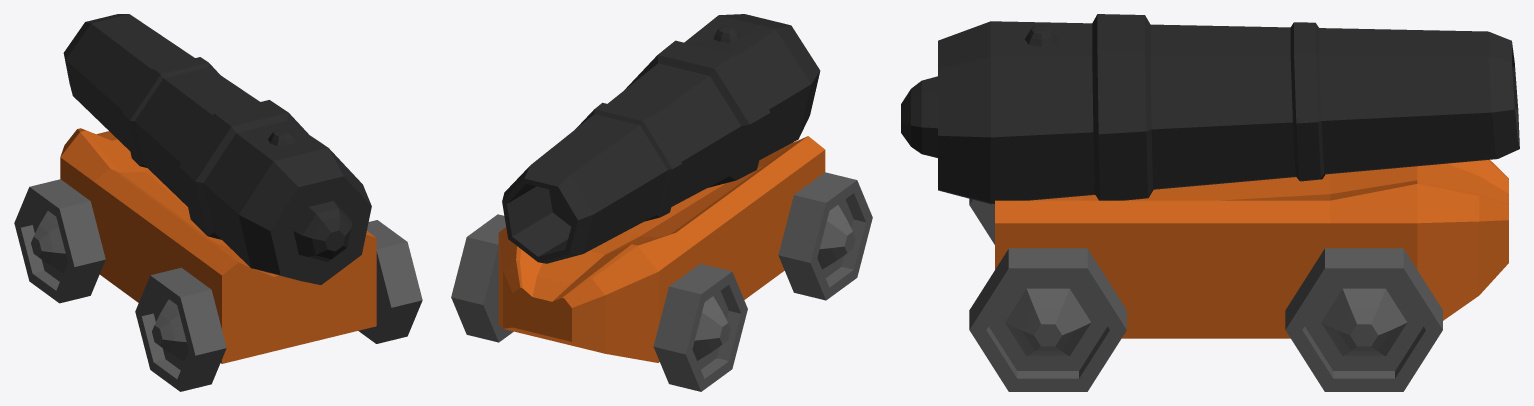
Rendered from Cannon.fbx.
The picture shows the model from 3 angles, left to right: view 1: azimuth 30°, elevation 25°; view 2: azimuth 150°, elevation 25°; view 3: azimuth 270°, elevation 25°; orthographic projection. The views are drawn at different scales.
Parts seen in each view (by area): view 1: Cannon, Cannon_Base, Wheels; view 2: Cannon, Cannon_Base, Wheels; view 3: Cannon, Cannon_Base, Wheels.
Boxes of the visible parts, x1,y1,x2,y2 form: Cannon: (63, 14, 371, 284); Cannon_Base: (60, 128, 376, 363); Wheels: (14, 179, 422, 391); Cannon: (502, 14, 820, 263); Cannon_Base: (498, 136, 825, 362); Wheels: (451, 172, 872, 391); Cannon: (901, 14, 1519, 204); Cannon_Base: (995, 159, 1508, 338); Wheels: (969, 198, 1442, 391).
Bounding box in the file's own units: 466 × 407 × 786.
